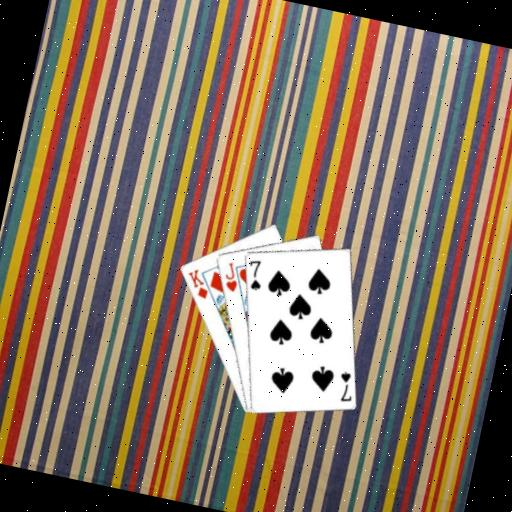7S: (240, 255, 267, 293), (332, 366, 359, 404)
JH: (219, 257, 243, 293)
KD: (180, 263, 214, 301)
